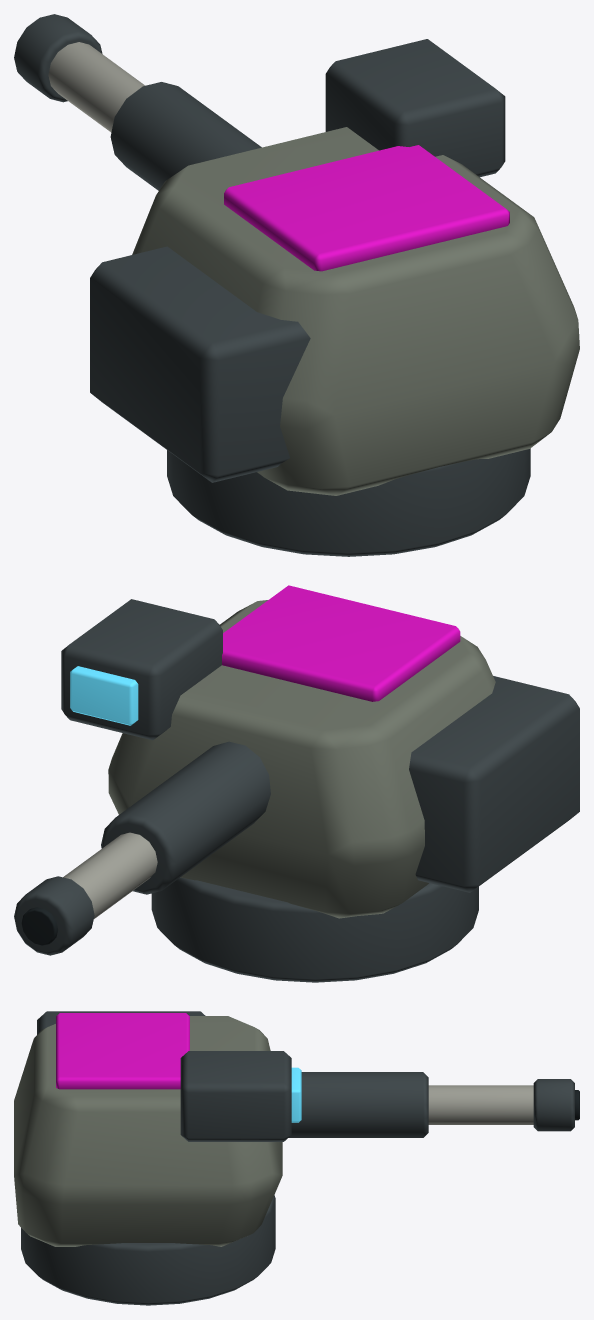
Rendered from radar-buggy-turret.glb.
The picture shows the model from 3 angles, top to bottom: view 1: azimuth 30°, elevation 25°; view 2: azimuth 150°, elevation 25°; view 3: azimuth 270°, elevation 25°; orthographic projection. The views are drawn at different scales.
Parts seen in each view (by area): view 1: TurretShell; view 2: TurretShell; view 3: TurretShell.
Boxes of the visible parts, x1,y1,x2,y2 form: TurretShell: (14, 14, 579, 556); TurretShell: (14, 585, 579, 982); TurretShell: (14, 1011, 579, 1305).
Size of the model in its own units: 0.4675 by 0.3635 by 0.805.
